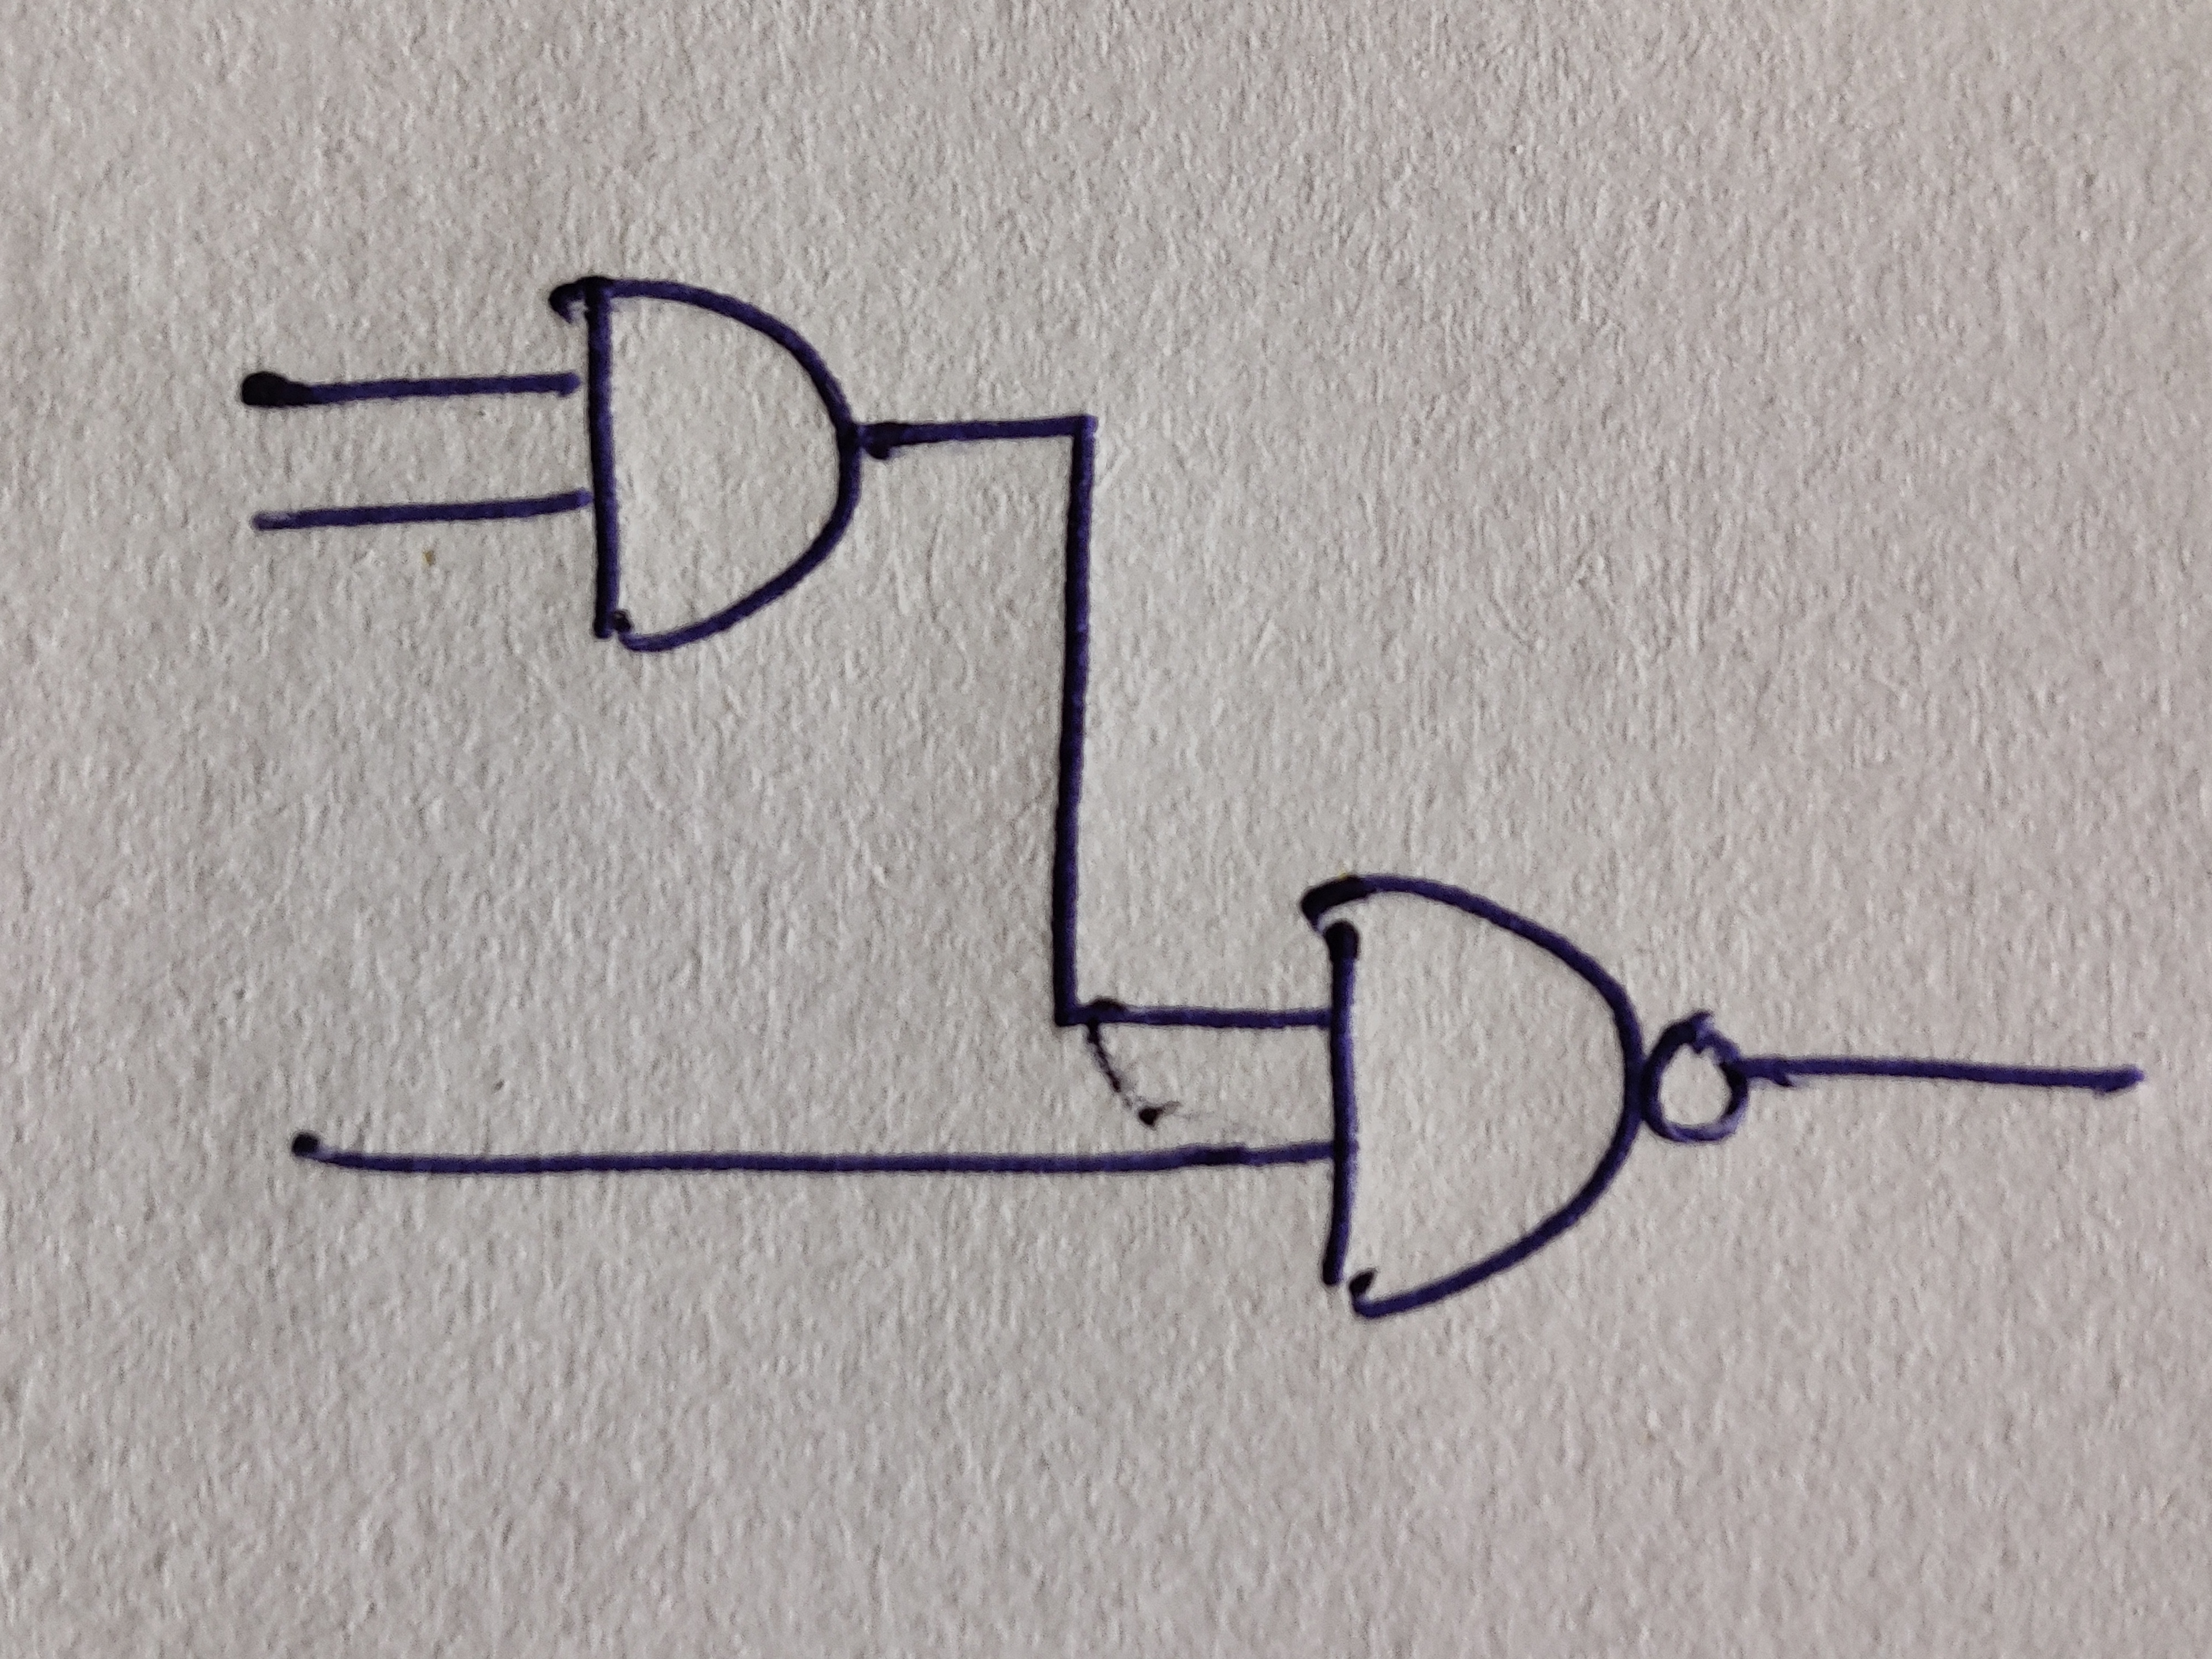and: (1298, 871, 1646, 1321), (549, 275, 862, 653)
not: (1644, 1009, 1750, 1147)
